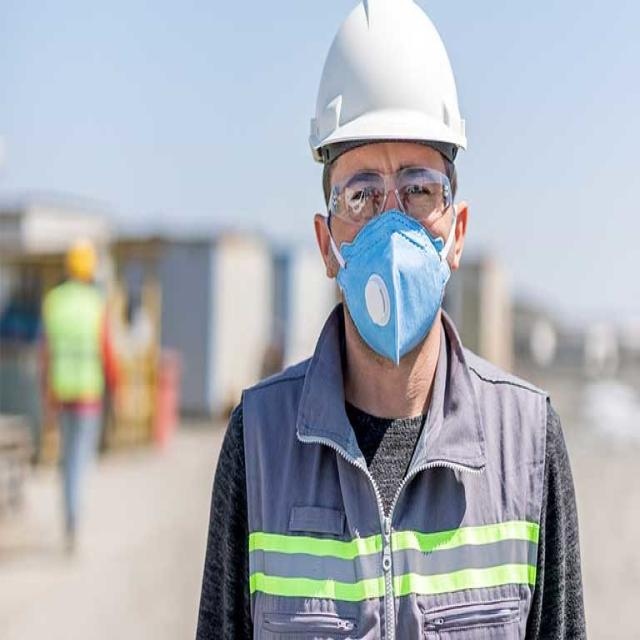goggles: (324, 165, 457, 225)
helmet: (302, 0, 485, 166)
vest: (233, 298, 559, 640)
